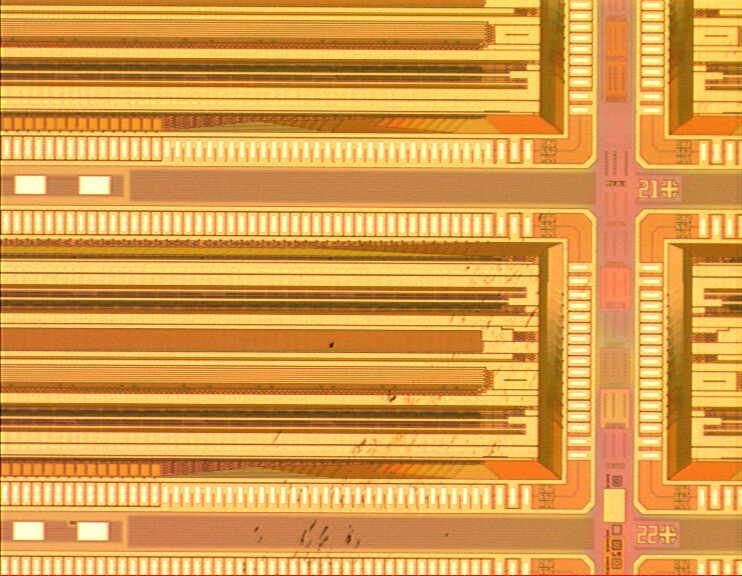SCRATCH: (230, 199, 607, 574)
